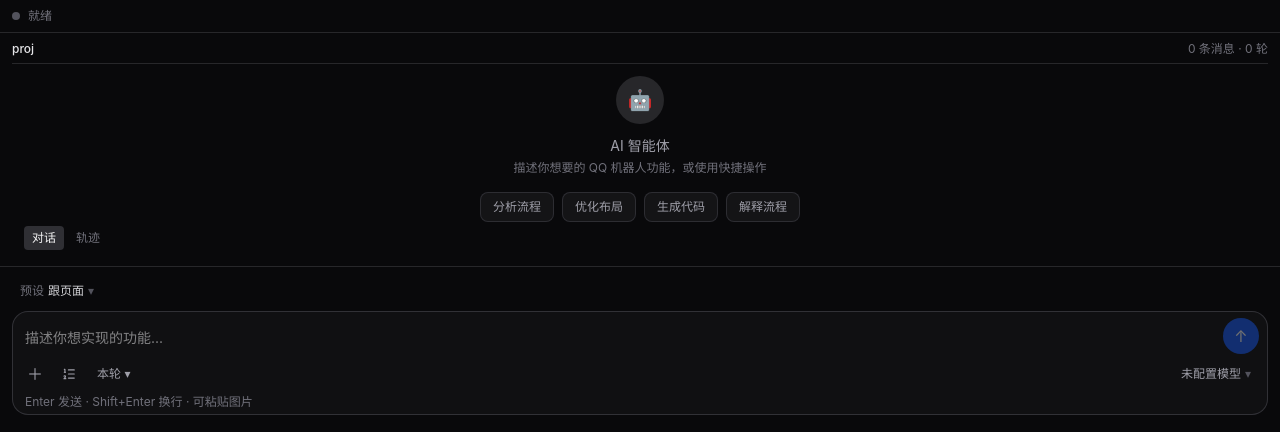
ChatPanel @ 文件引用 › 行首打 @ 弹候选，并把 projectPath / 空 query / limit 传给主进程
This screenshot has width=1280, height=432.
Type "@" into the text box with placeholder "描述你想实现的功能...".
click(618, 338); type("@")  # box [21,320,1215,356]
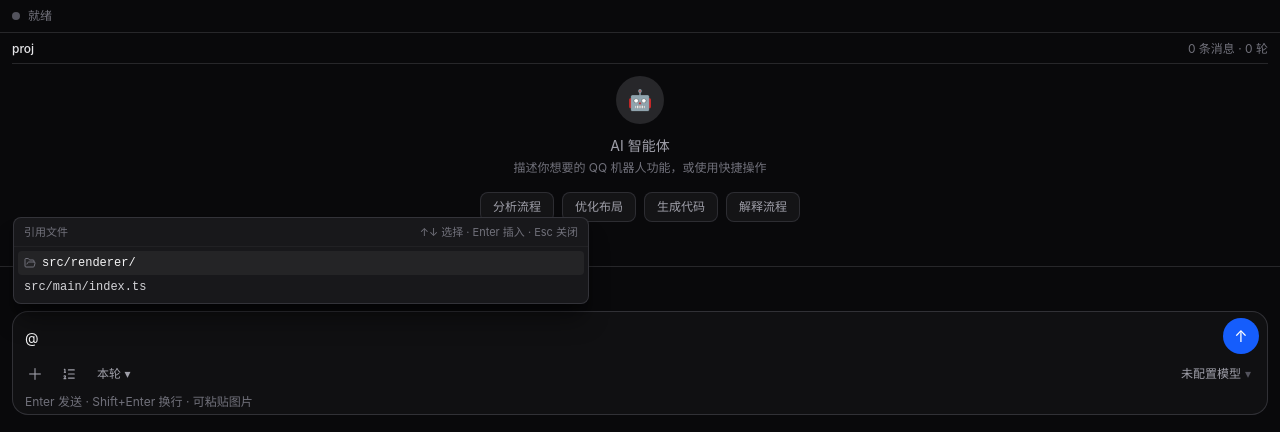
Check: the text "src/renderer/" is shown, box [42,255,136,271]
Check: the text "src/main/index.ts" is shown, box [24,279,146,295]
